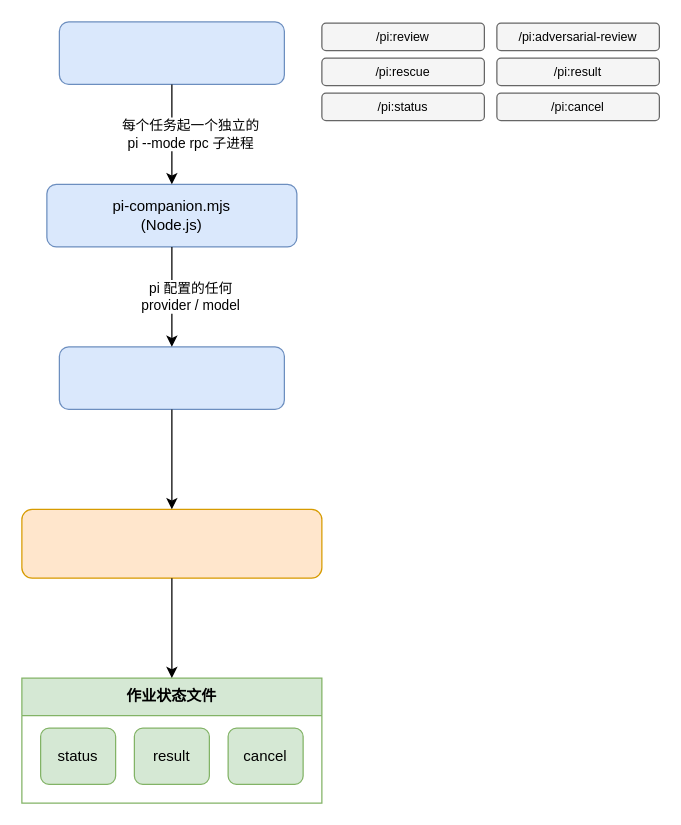
Some shapes in this 681 by 825 pixel diagram are drawn without their labels. Here are the shapes that lost their labels. From the top down, the centre of each, then its label:
At point 171,52: "Claude Code".
At point 171,377: "Pi 编码 Agent".
At point 171,543: "JSONL 事件流 + 最终 assistant 消息".
